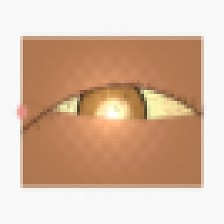corneal_ulcer: (96, 100, 133, 129)
